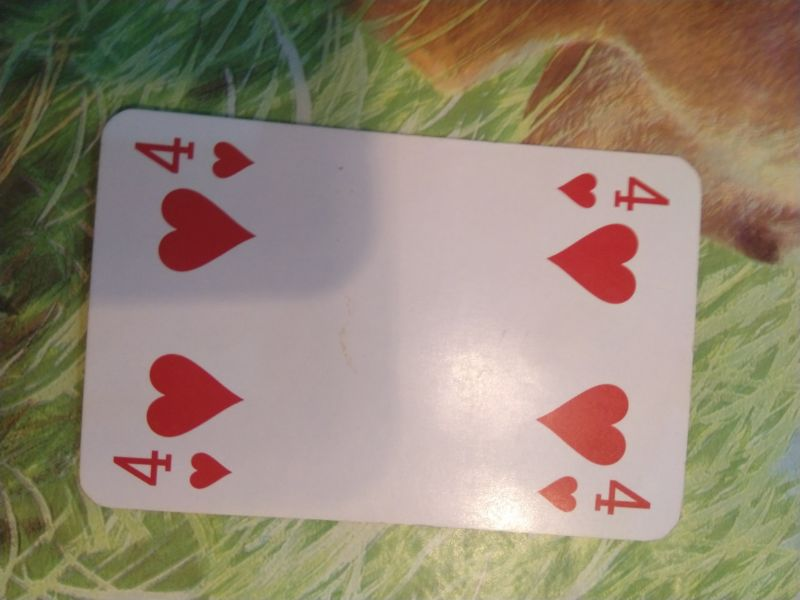4h: (122, 128, 261, 185), (531, 471, 661, 526), (107, 446, 236, 497), (552, 168, 679, 217)
